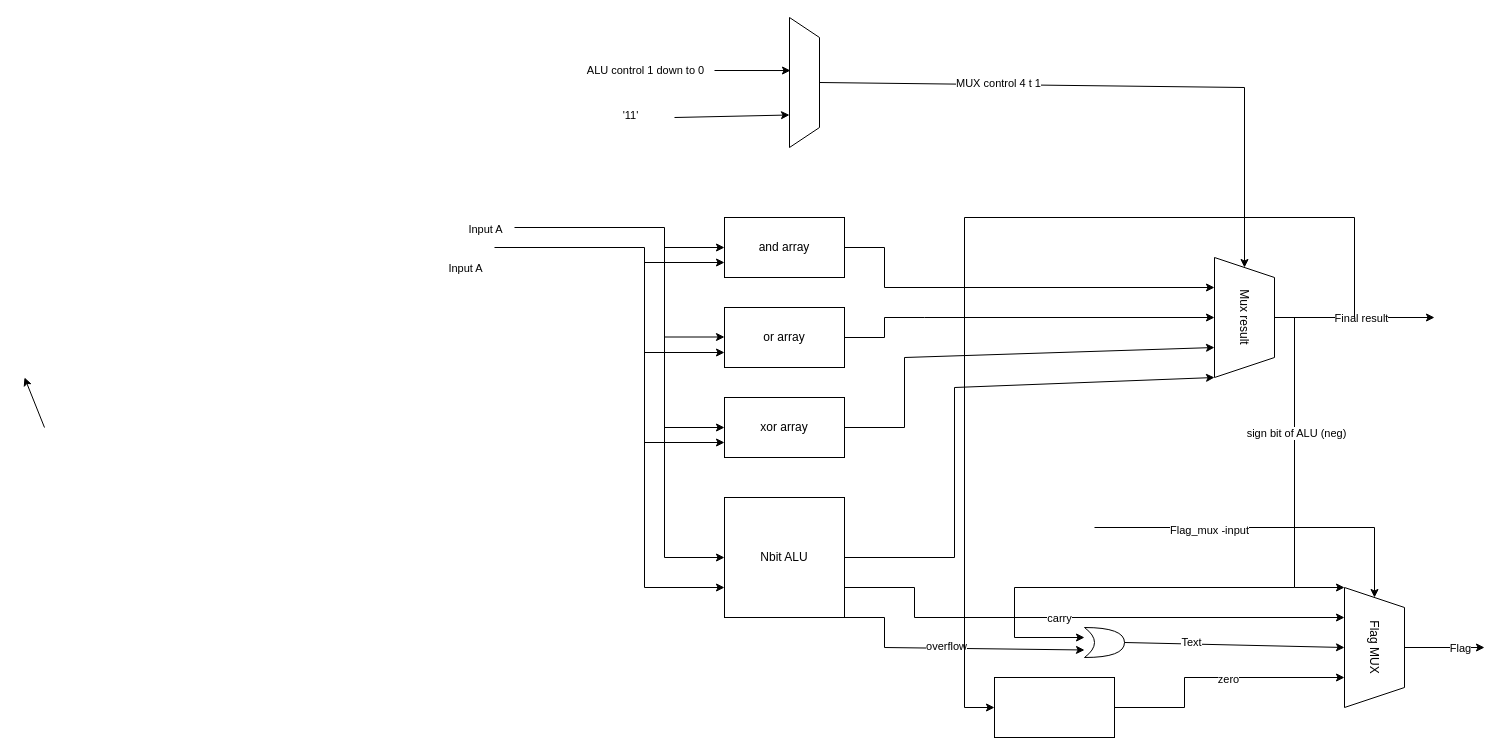
This 1510x755 diagram has some shape labels left out. The centre of each missing label's shape, as x and y in pixels:
mux before result: the point at 804,82
NOR 32 to 1 unit: the point at 1054,707
xor: the point at 1104,642
